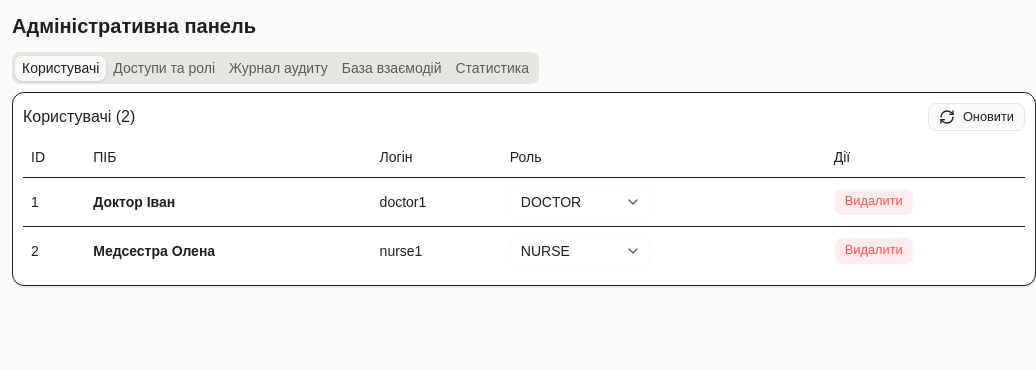
AdminPage › renders the permission matrix with role columns and grants
The width and height of the screenshot is (1036, 370).
What coordinates should you click on to do the following:
click the tab "Доступи та ролі"
I would click on:
 (164, 68)
Its box is [106,56,222,80].
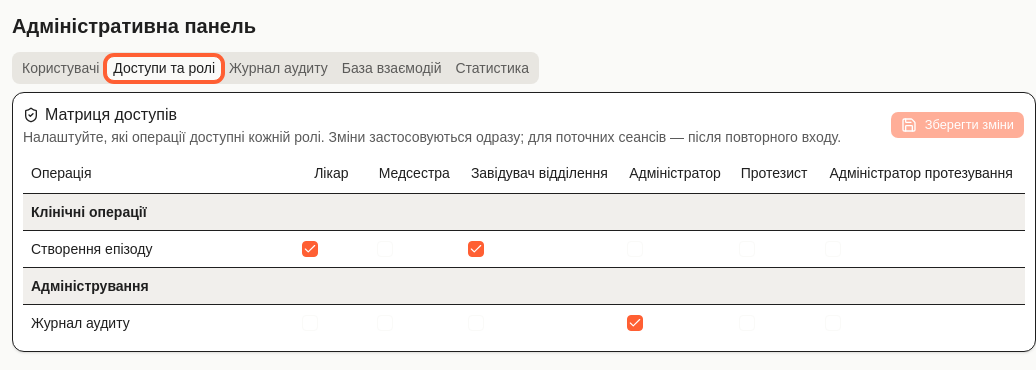
Result: the heading "Матриця доступів" is shown at [23,106,177,123]
Result: the text "Створення епізоду" is shown at [31,240,152,256]
Result: the checkbox named "Створення епізоду — Лікар" is checked at [302,240,318,256]
